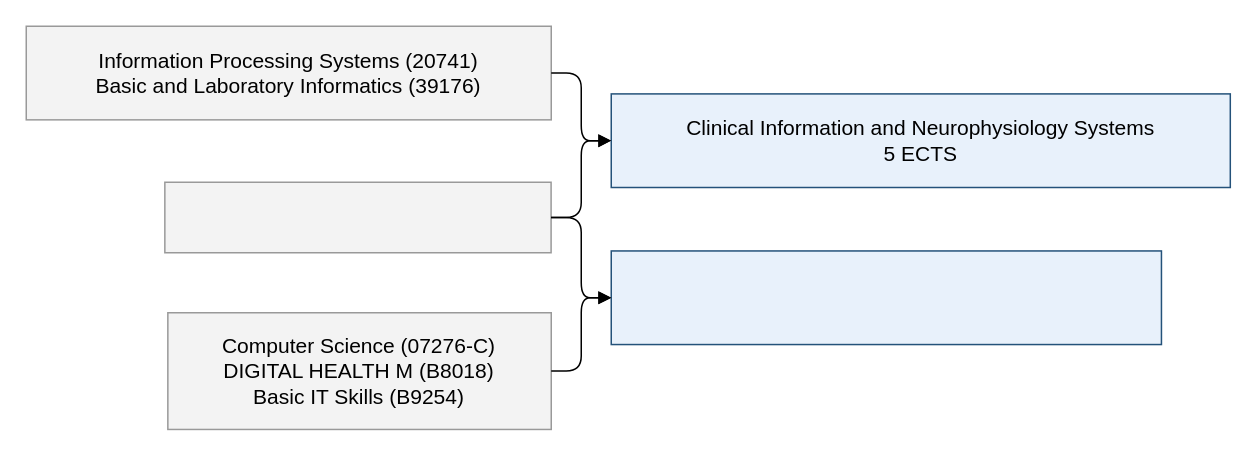
Image size: 1257x456. Some labels were removed from this diagram. The centre of each missing label's shape, as x and y in pixels:
"Digital Health Foundations and Applications 4 ECTS" goes at (885,297).
"Informatic (82202, 82202-A)" goes at (357,217).
